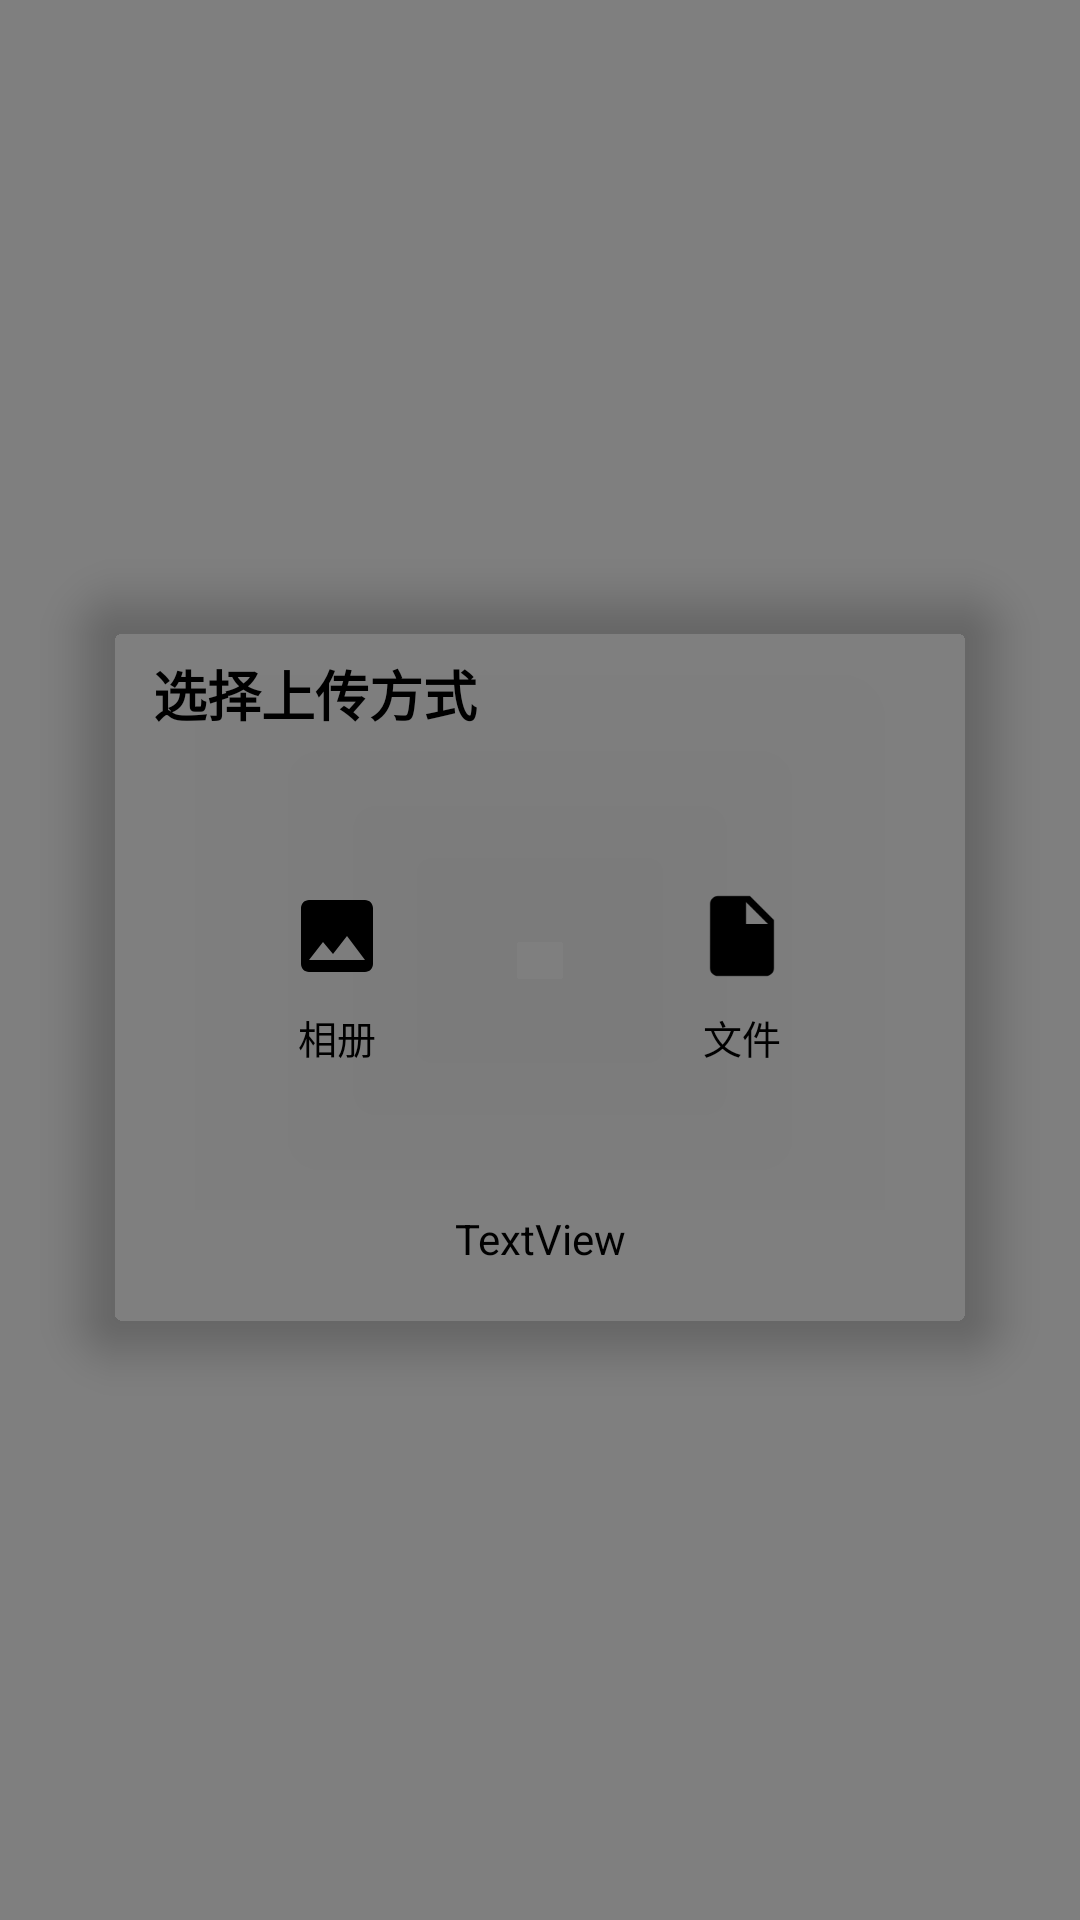

Named icons in this screenshot (1080px x 1920px) and their bounding boxes, (x1, y1, x2, y2):
upload file: (710, 896, 774, 976)
upload photo: (301, 900, 373, 972)
